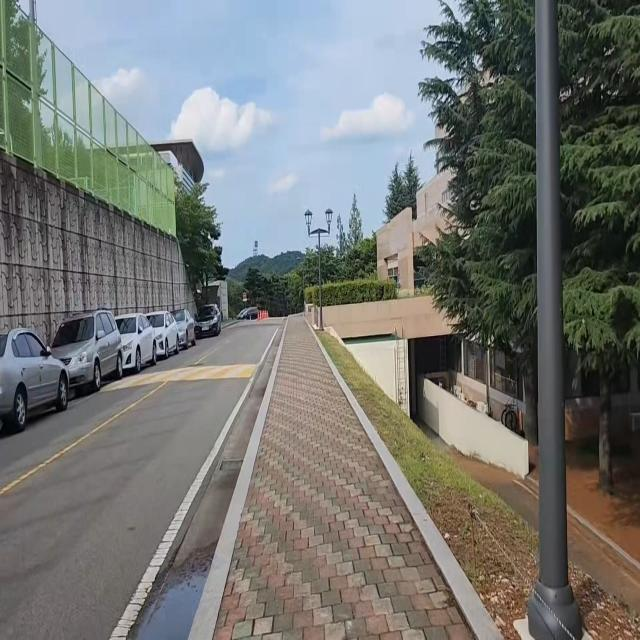obstacle: (524, 0, 587, 640)
road: (0, 311, 286, 640)
sidewalk: (191, 313, 508, 640)
